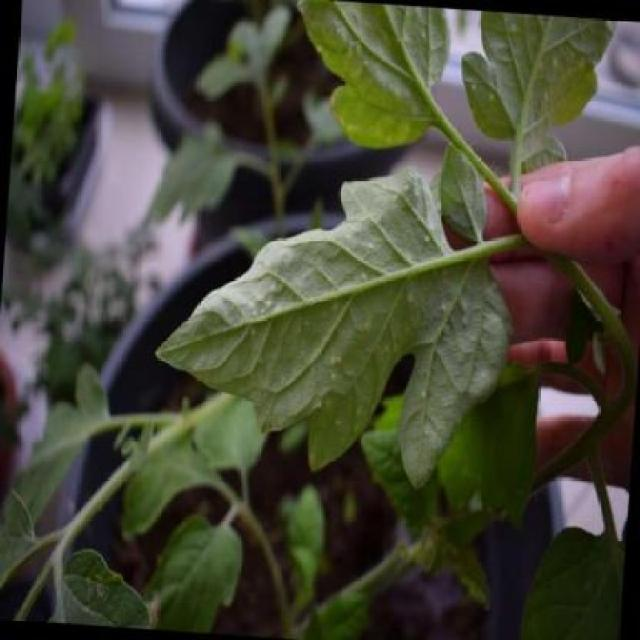Leaf Mold: (144, 152, 514, 494), (454, 9, 612, 154)
